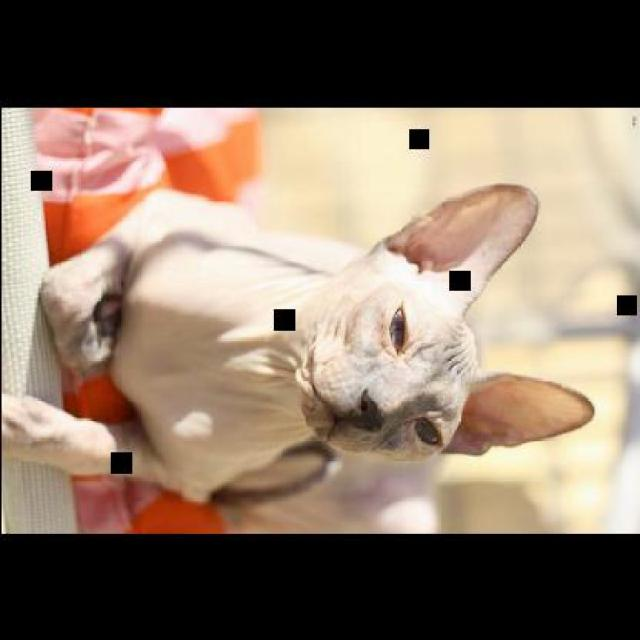unauthorized: (0, 180, 594, 523)
